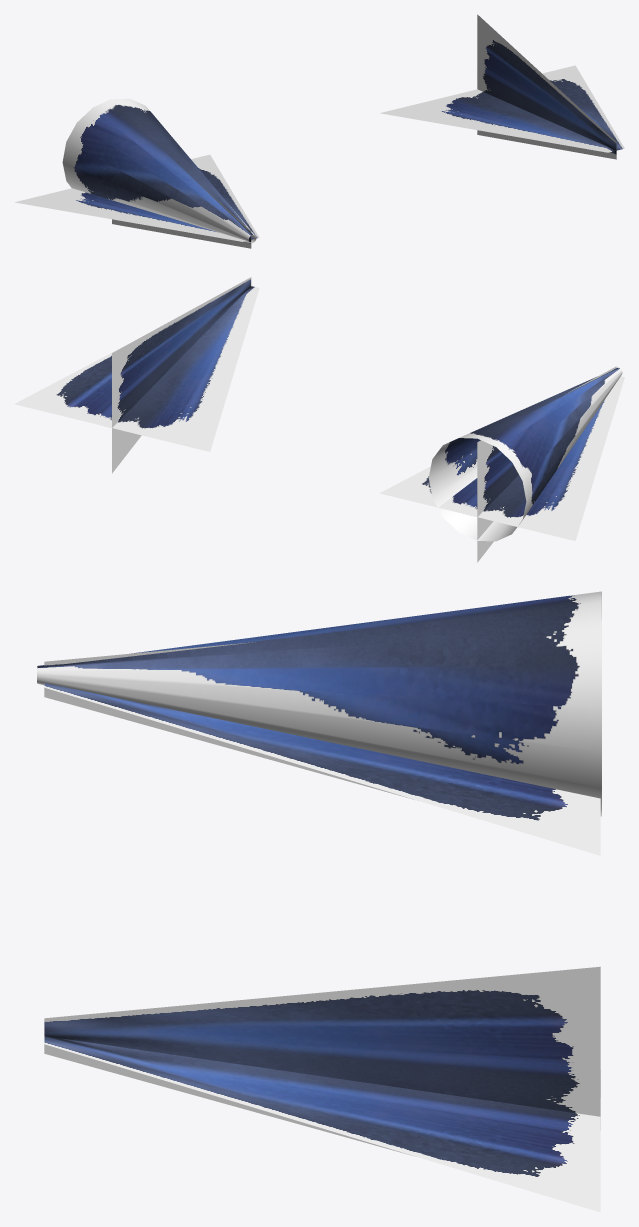
File: ProjectorLightBeams01.DAE
3 renders of one model, top to bottom at view 1: azimuth 30°, elevation 25°; view 2: azimuth 150°, elevation 25°; view 3: azimuth 270°, elevation 25°, orthographic. The views are drawn at different scales.
Visible parts, largest first — view 1: ProjectorLightBeams01; view 2: ProjectorLightBeams01; view 3: ProjectorLightBeams01.
Boxes of the visible parts, x1,y1,x2,y2 form: ProjectorLightBeams01: [15, 14, 624, 248]; ProjectorLightBeams01: [14, 277, 624, 562]; ProjectorLightBeams01: [37, 591, 601, 1212].
Bounding box in the file's own units: 221 × 96.46 × 46.95.
1 material, 1 textured.
